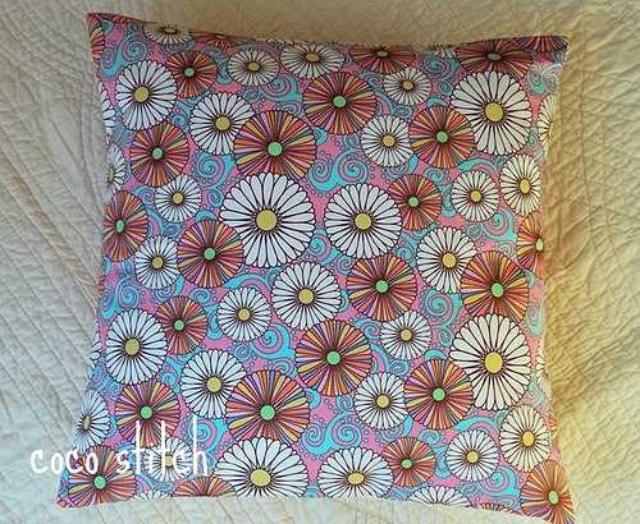pillow: (56, 10, 576, 522)
